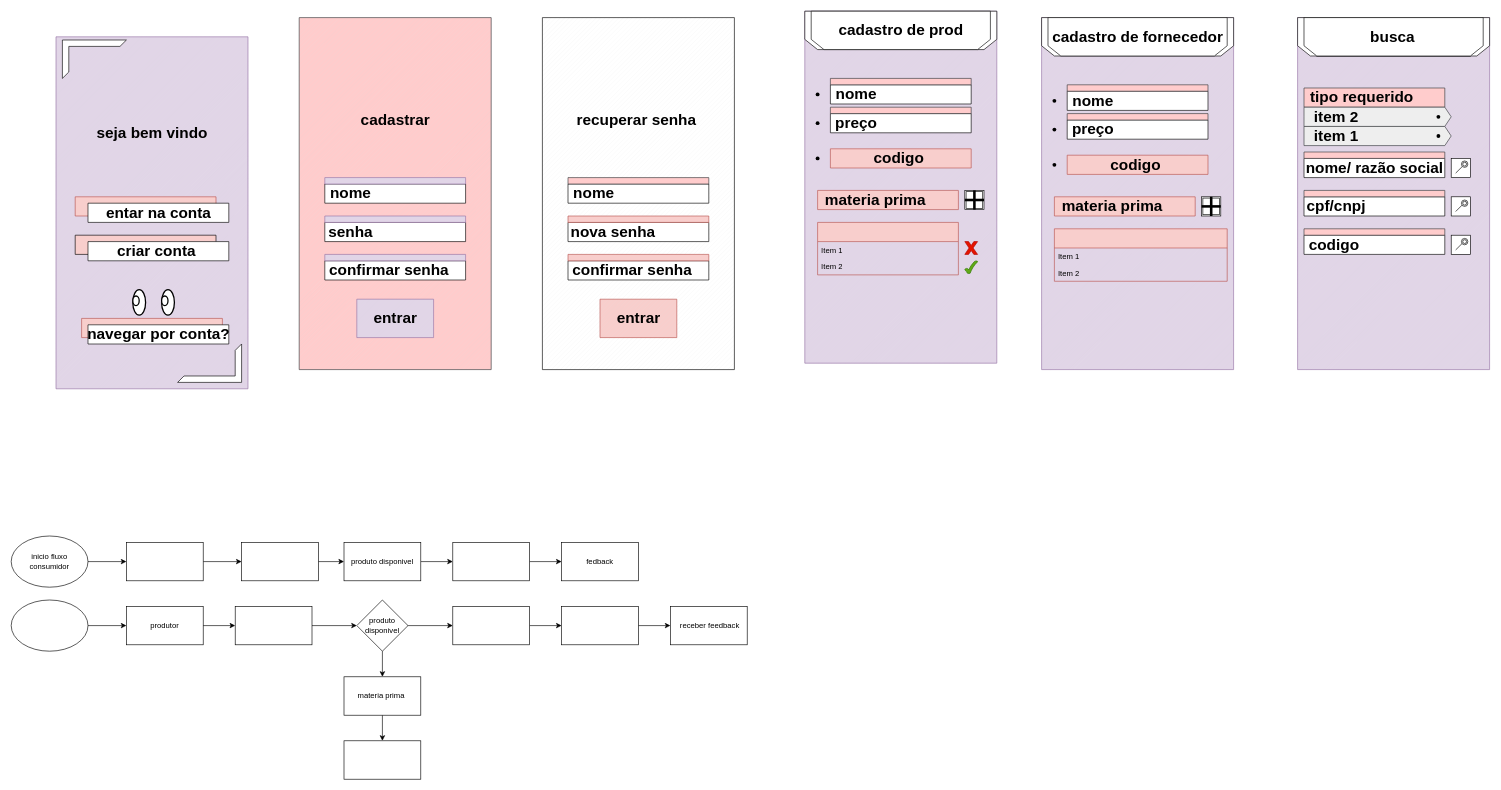
Some shapes in this 1501 by 790 pixel diagram are drawn without their labels. The shapes that lost their labels are listed below. From the top down, each one's box as (x1, y1, x2, y2) in pixels, then its label:
(126, 542, 203, 581): cliente
(241, 542, 318, 581): compra
(452, 542, 530, 581): entrega
(11, 599, 88, 651): inicio do fluxo dono
(235, 606, 312, 645): listagem de produtos
(452, 606, 530, 645): fornecedor
(561, 606, 638, 645): venda
(343, 740, 421, 779): data de entrega
